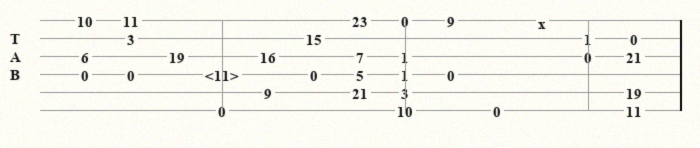0: (81, 67, 93, 81), (127, 67, 139, 81), (218, 103, 230, 117), (310, 67, 322, 81), (401, 13, 413, 27), (447, 67, 459, 81), (493, 103, 505, 117), (584, 49, 596, 63), (630, 31, 642, 45)
1: (401, 49, 413, 63), (401, 67, 413, 81), (584, 31, 596, 45)
10: (77, 13, 97, 27), (397, 103, 417, 117)
11: (123, 13, 143, 27), (626, 103, 646, 117)
15: (306, 31, 326, 45)
16: (260, 49, 280, 63)
19: (169, 49, 189, 63), (626, 85, 646, 99)
21: (352, 85, 372, 99), (626, 49, 646, 63)
23: (352, 13, 372, 27)
3: (127, 31, 139, 45), (401, 85, 413, 99)
5: (356, 67, 368, 81)
6: (81, 49, 93, 63)
7: (356, 49, 368, 63)
9: (264, 85, 276, 99), (447, 13, 459, 27)
harmonic: (205, 67, 243, 81)
x: (538, 15, 550, 26)
